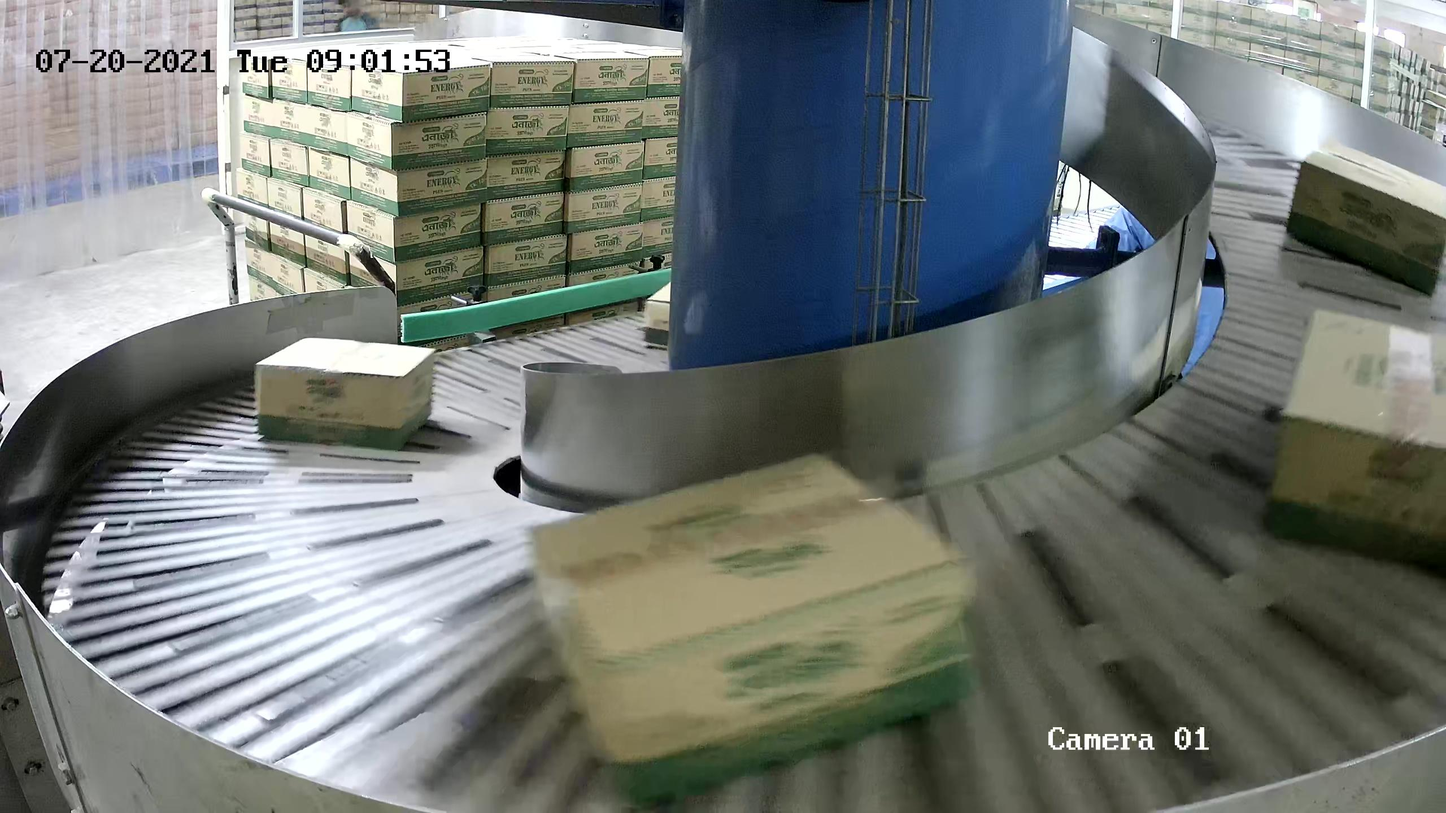Box: (529, 452, 975, 811), (1259, 306, 1446, 576), (1286, 139, 1446, 295), (256, 336, 436, 453)
